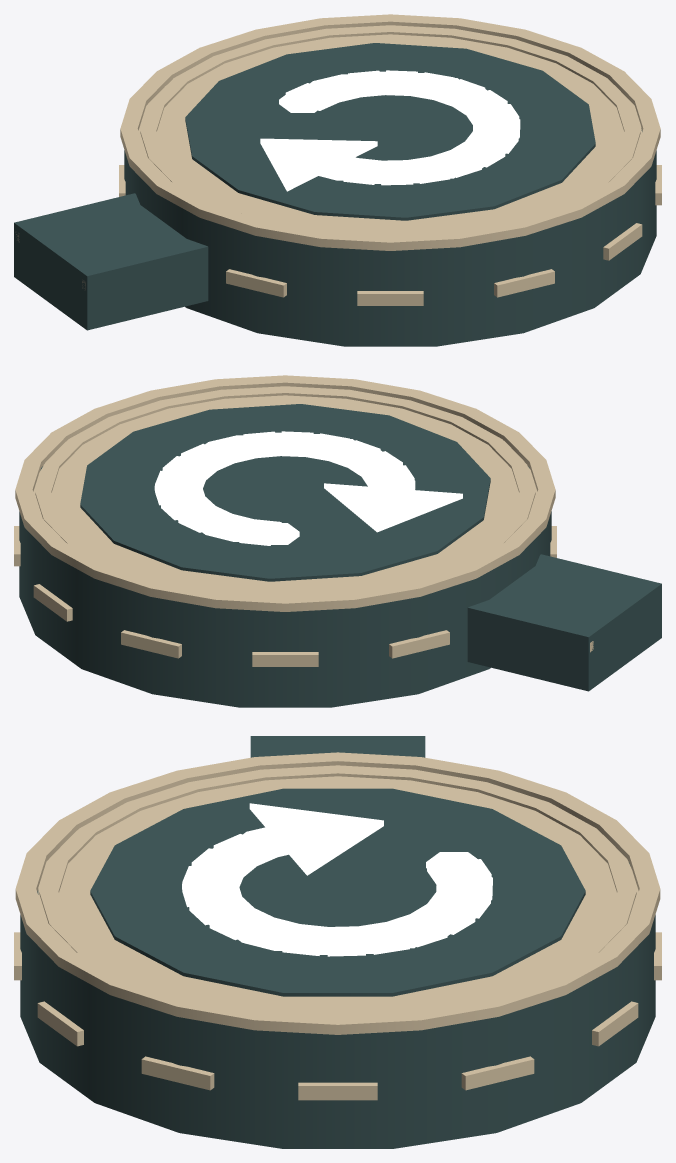
The model's file is Relay_Button_Rotation_v2_lab2.glb.
3 views of the same model, one above another, from view 1: azimuth 30°, elevation 25°; view 2: azimuth 150°, elevation 25°; view 3: azimuth 270°, elevation 25° (orthographic). The views are drawn at different scales.
Parts seen in each view (by area): view 1: Relay_Button_Rotation_v2, Glyph, Strut; view 2: Relay_Button_Rotation_v2, Glyph, Strut; view 3: Relay_Button_Rotation_v2, Glyph, Strut.
Part boxes in pixels (x1,y1,x2,y2): Relay_Button_Rotation_v2: [119, 14, 661, 346]; Glyph: [185, 43, 595, 220]; Strut: [14, 193, 208, 330]; Relay_Button_Rotation_v2: [14, 375, 556, 707]; Glyph: [80, 404, 490, 581]; Strut: [467, 554, 661, 691]; Relay_Button_Rotation_v2: [14, 752, 661, 1148]; Glyph: [90, 788, 585, 996]; Strut: [250, 736, 425, 757].
Bounding box in the file's own units: 4.99 × 1.61 × 4.08.
